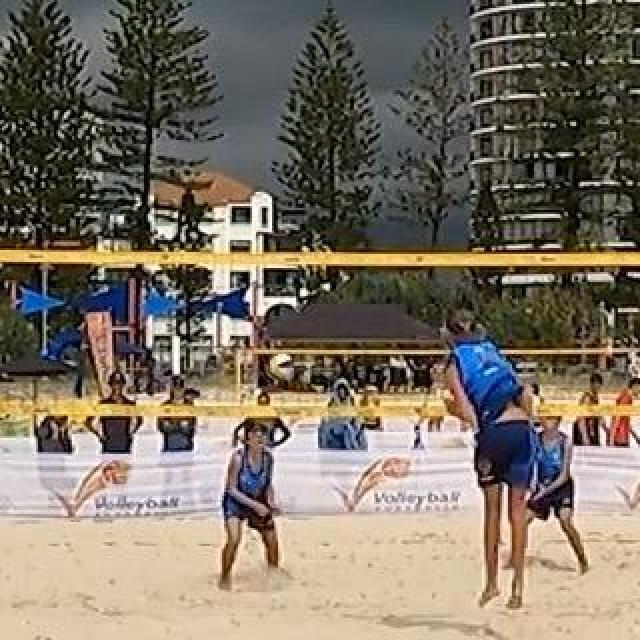volleyball: (266, 353, 296, 379)
